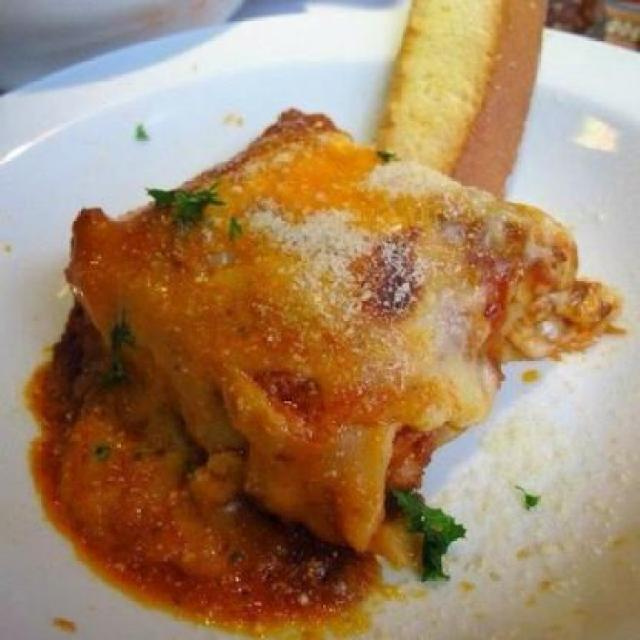Lasagna: (55, 100, 596, 557)
